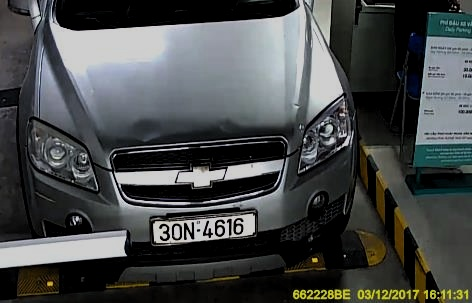plate: (154, 213, 258, 240)
